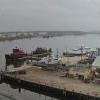Boat: (8, 44, 88, 60)
